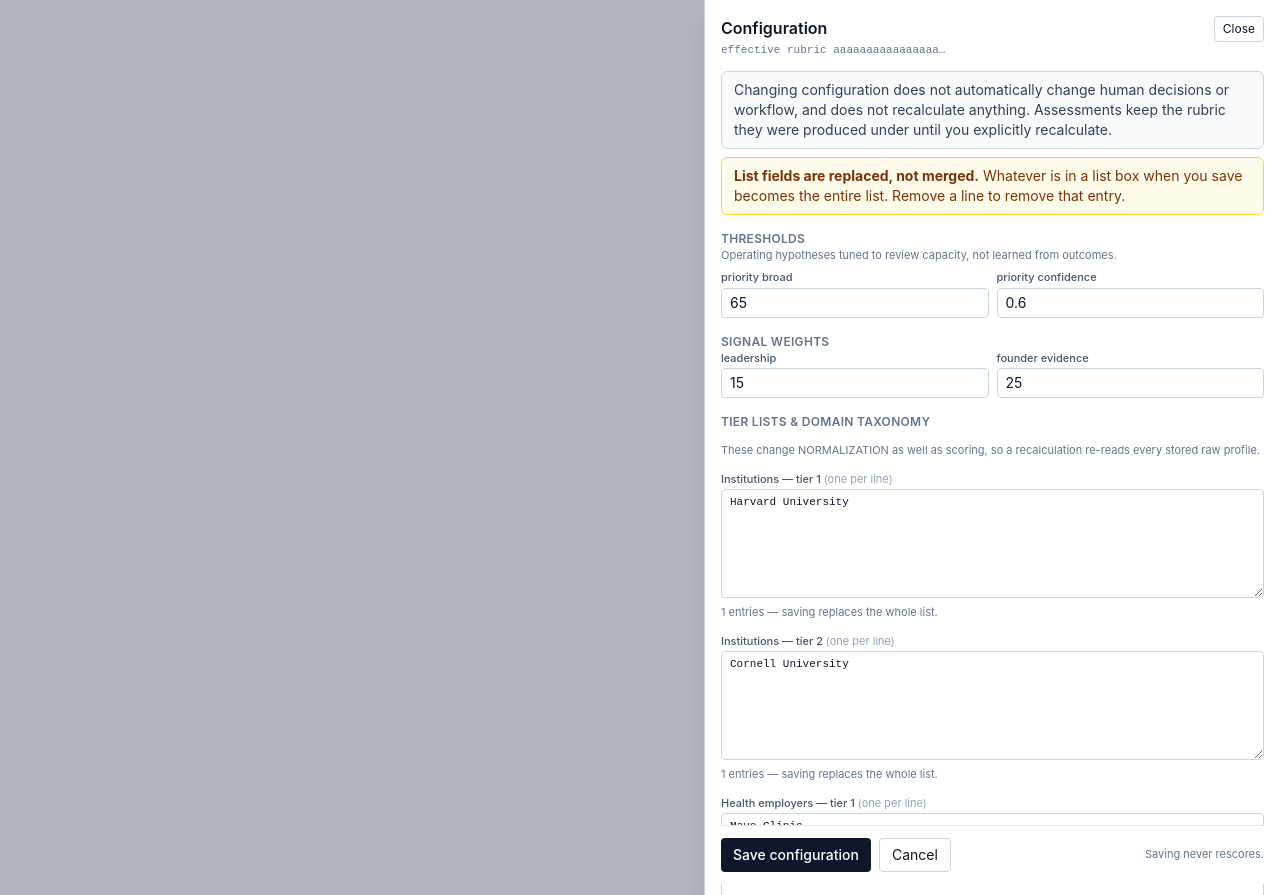
it: F-18 — recalculation copy does not overstate › says assessments were re-evaluated, not that conclusions changed
Click the button "Save configuration" at (796, 855), box [721, 838, 871, 872]
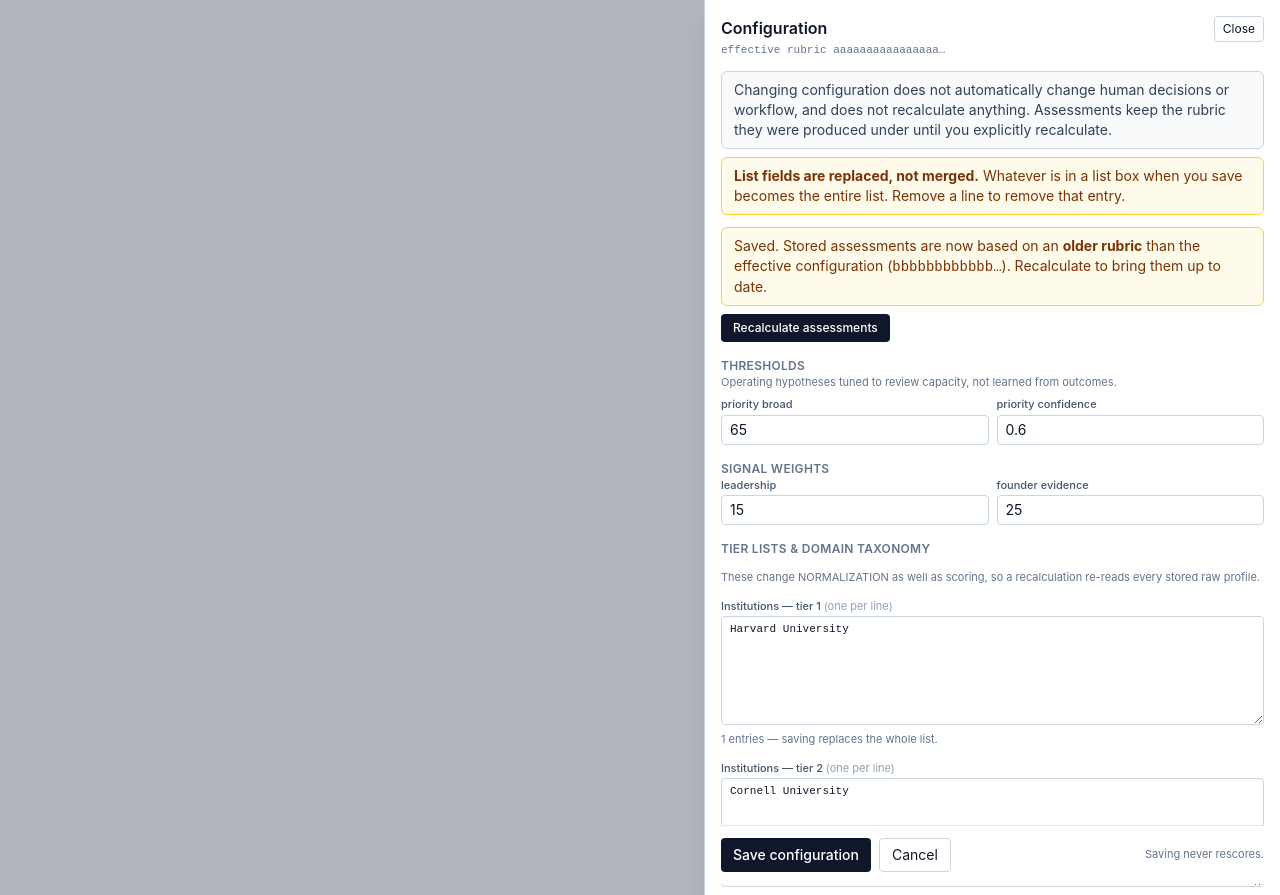
Click the button "Recalculate assessments" at (805, 328), box [721, 314, 890, 342]
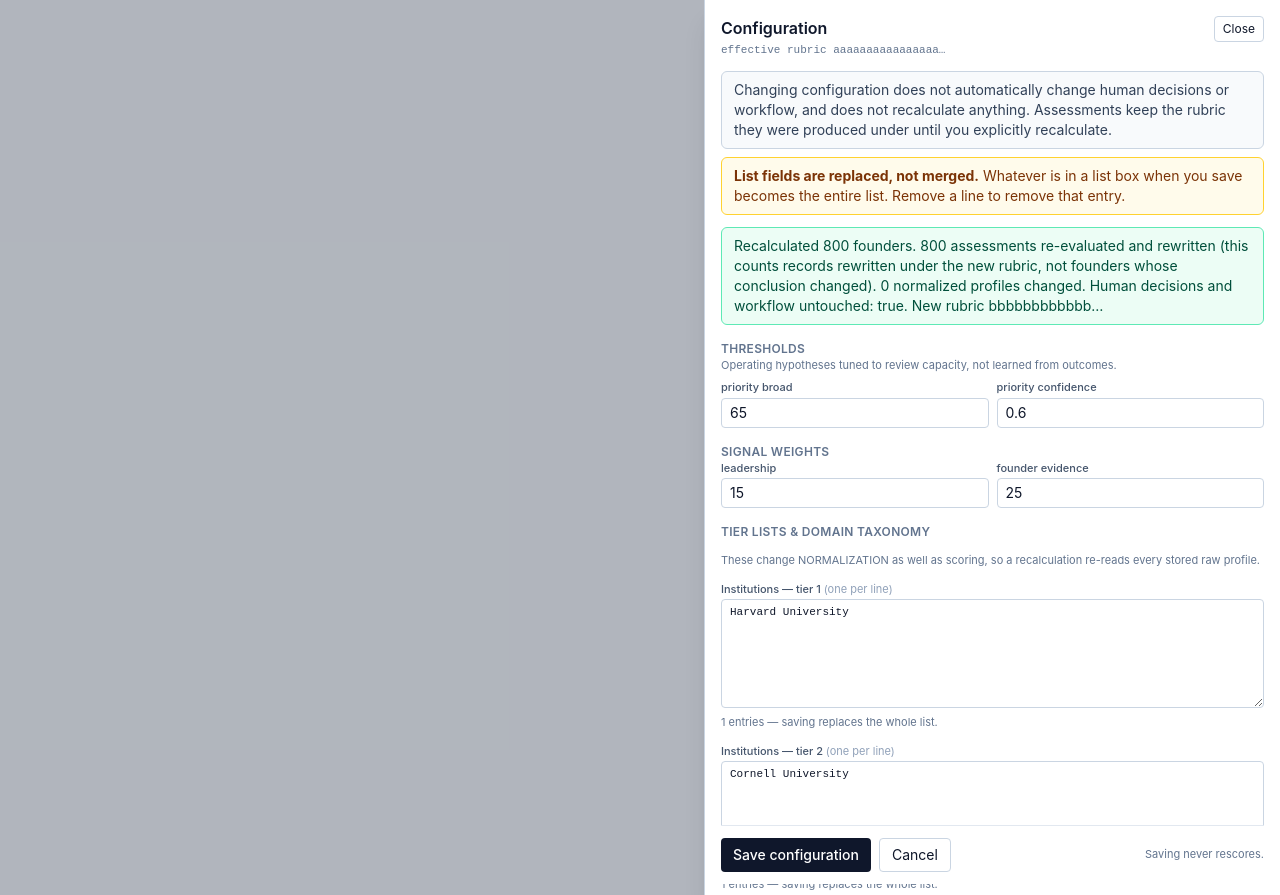
Expected: the text "re-evaluated and rewritten" shows "not founders whose conclusion changed", [734, 236, 1248, 314]
